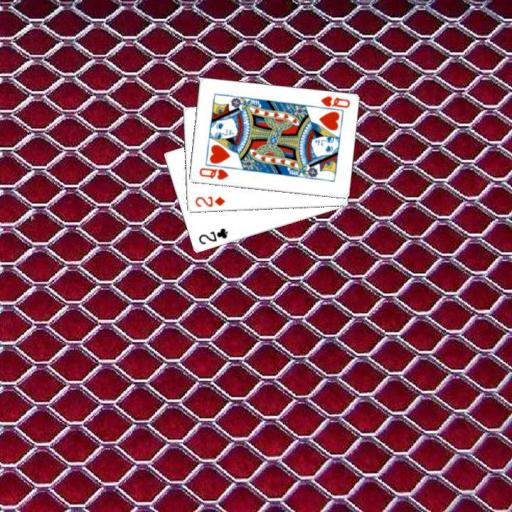2C: (195, 225, 229, 246)
2D: (192, 194, 226, 209)
QH: (313, 93, 351, 113), (196, 165, 230, 181)
